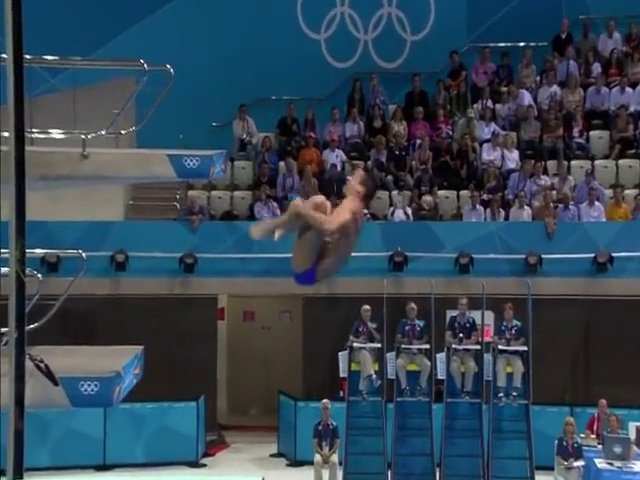diver: (247, 166, 376, 285)
